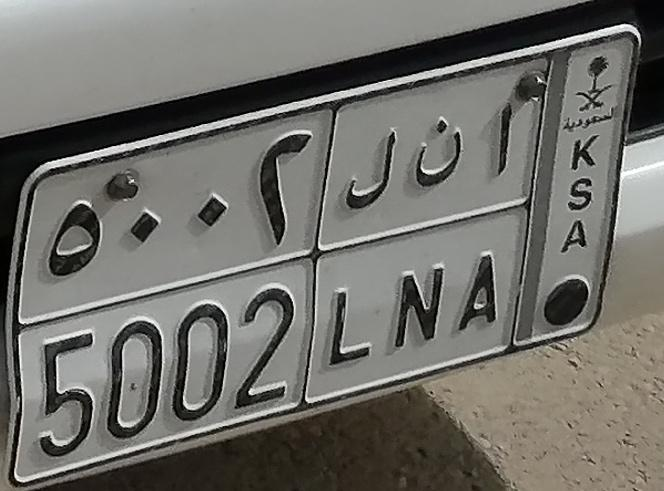0: (165, 188, 232, 426), (101, 205, 168, 441)
2: (229, 130, 314, 411)
5: (34, 199, 107, 459)
A: (455, 101, 518, 332)
L: (324, 124, 398, 370)
N: (395, 117, 463, 355)
